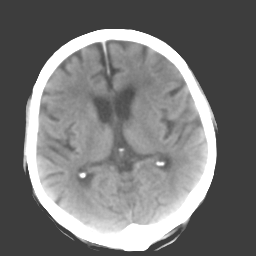ischemic: (133, 98, 161, 139)
